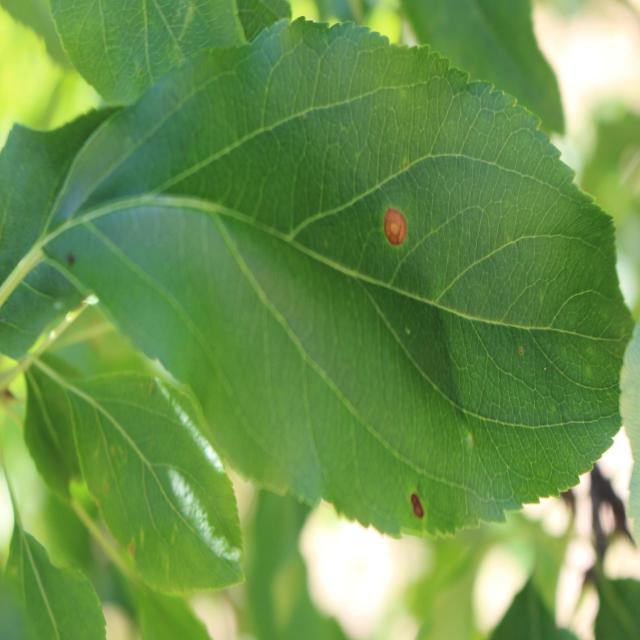Black Rot: (378, 193, 412, 254), (406, 490, 428, 530)
